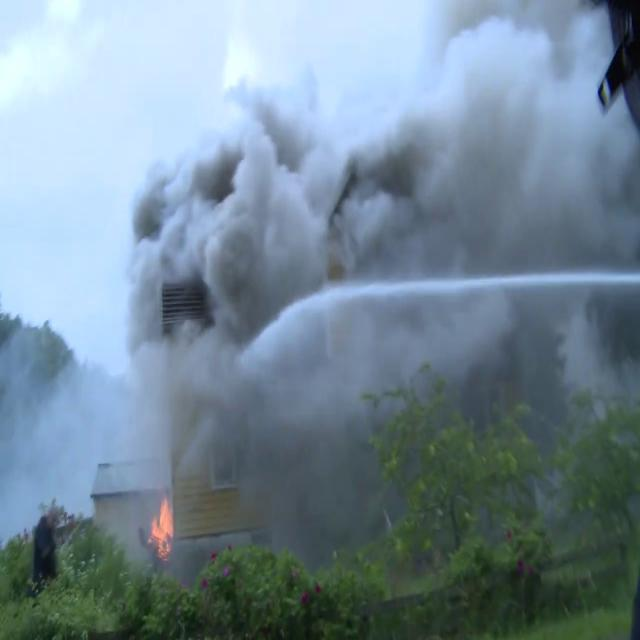Fire: (148, 488, 176, 560)
Smoke: (126, 2, 640, 447), (0, 306, 136, 566)
